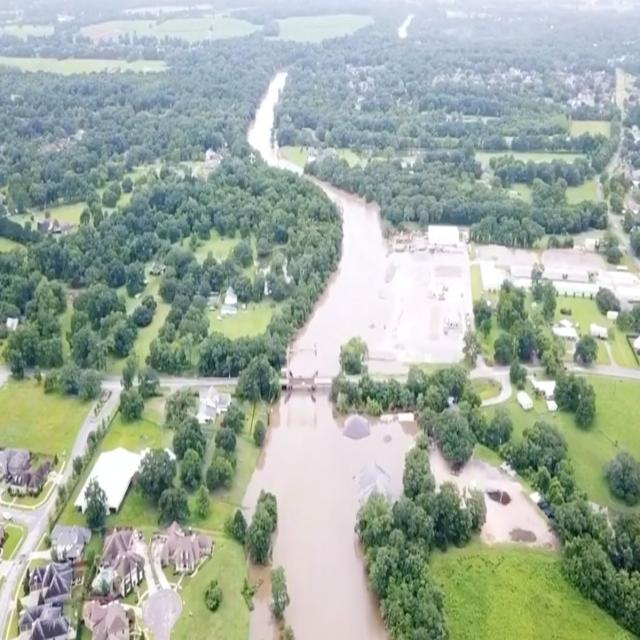flooded_areas: (231, 60, 536, 639)
